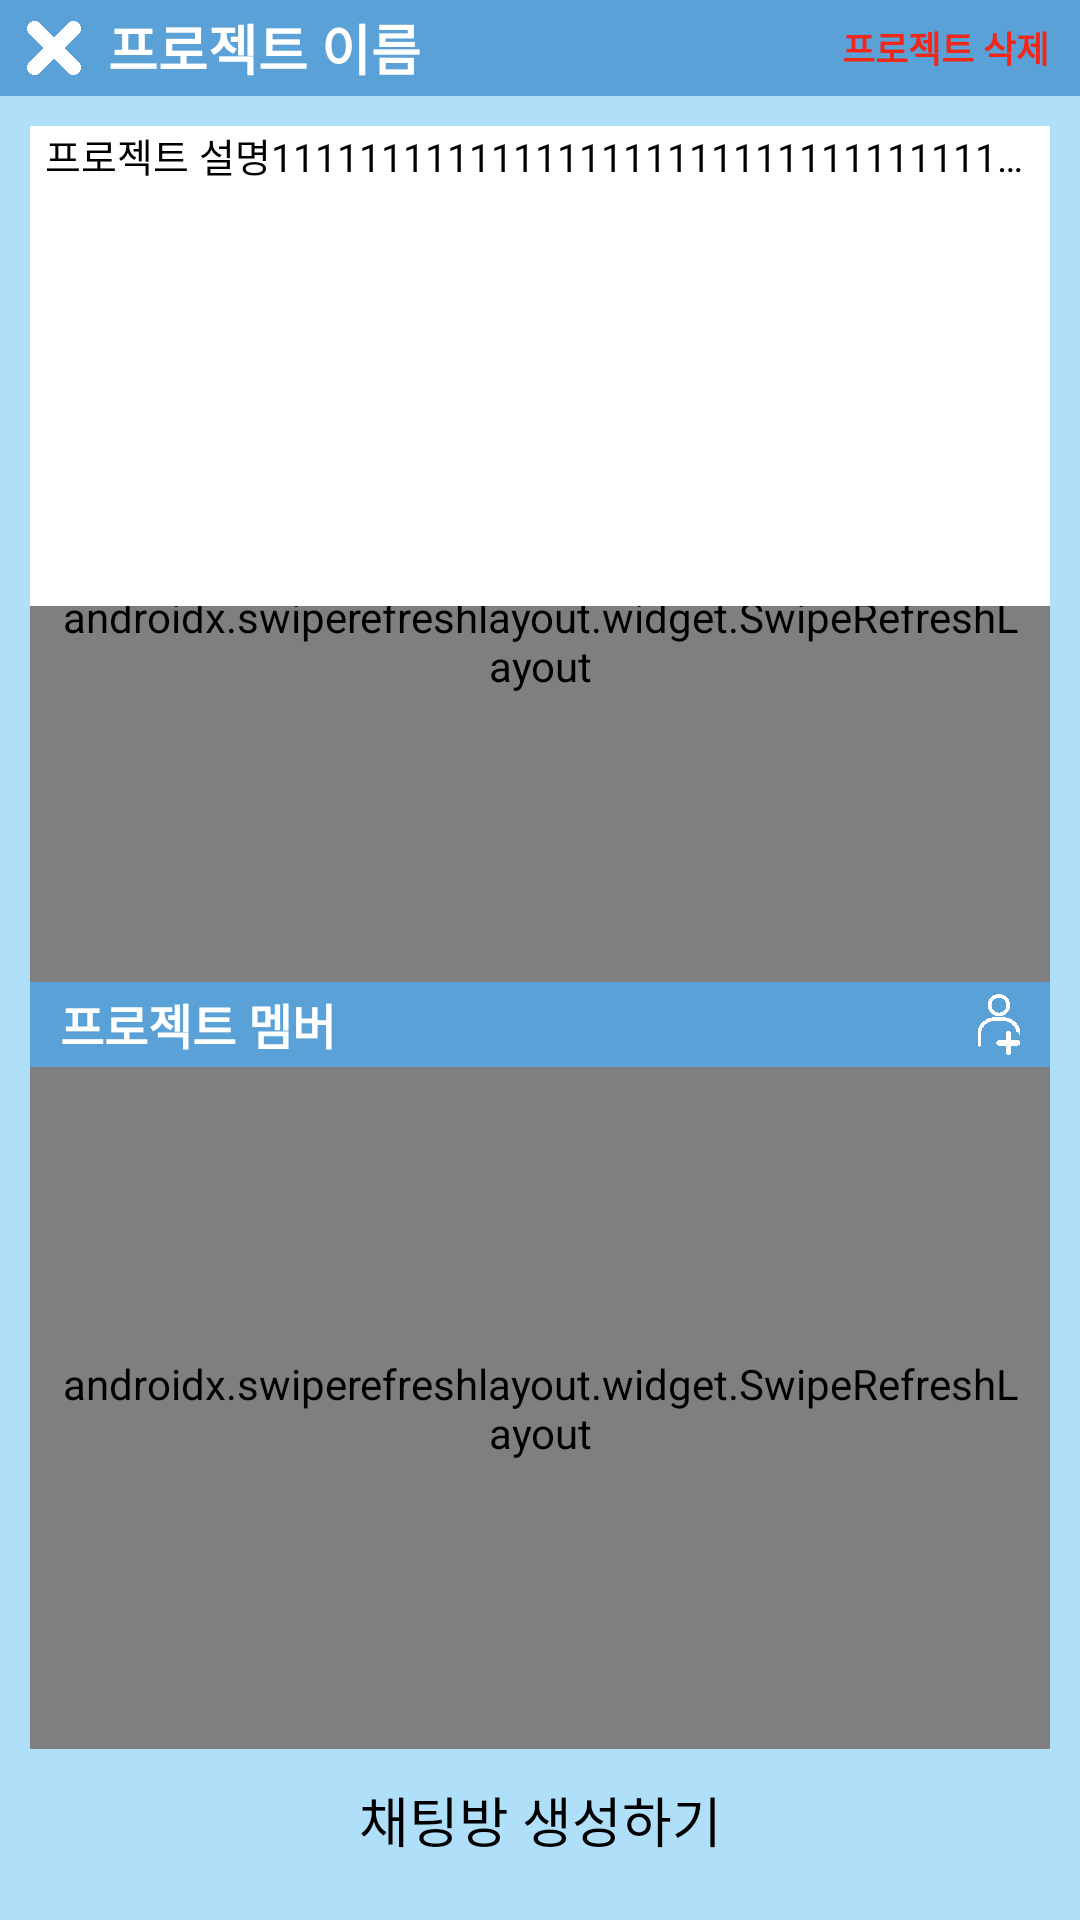

Point at icon controls on the screen. Image size 1080px×1920px, points as (x,y).
users: (999,1024)
